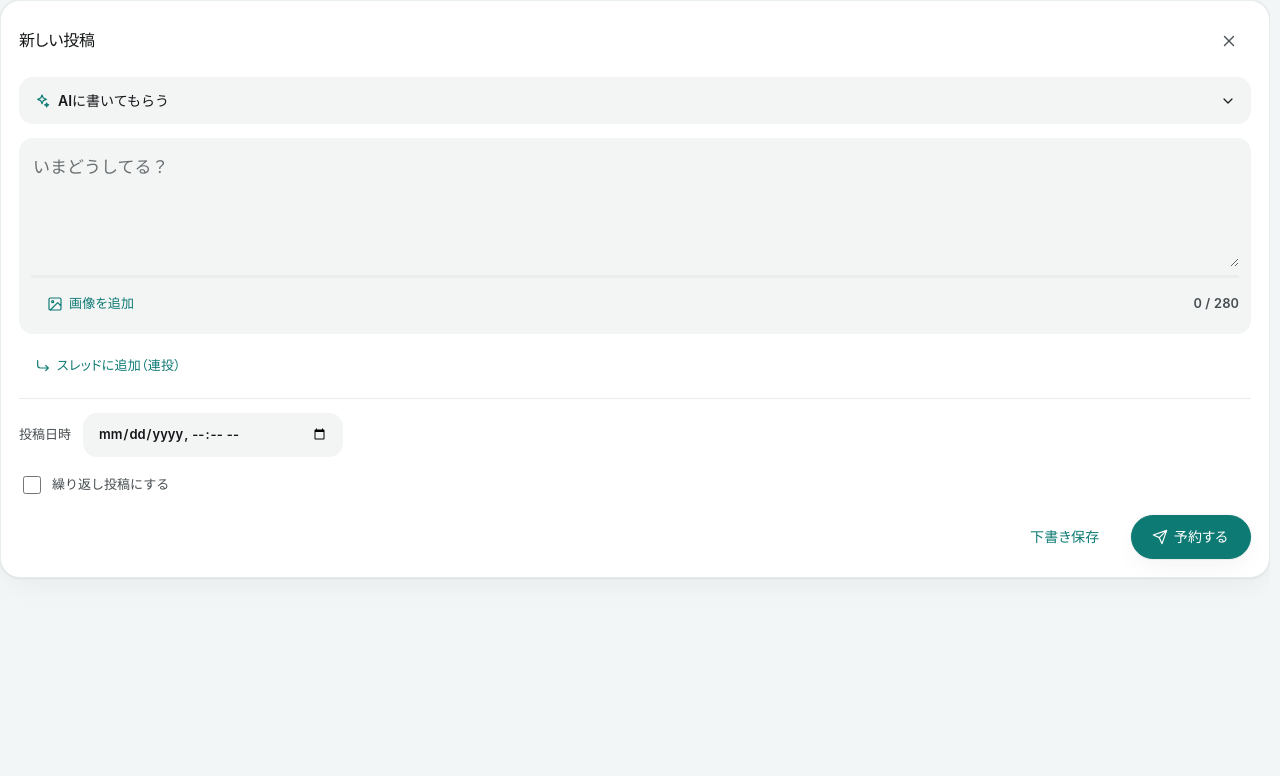
Test: PostComposer › 本文を書いてあるときは書き直しとして案内する
Type "書きかけの本文" into the text box with placeholder "いまどうしてる？" at (635, 208), box [31, 150, 1239, 267]
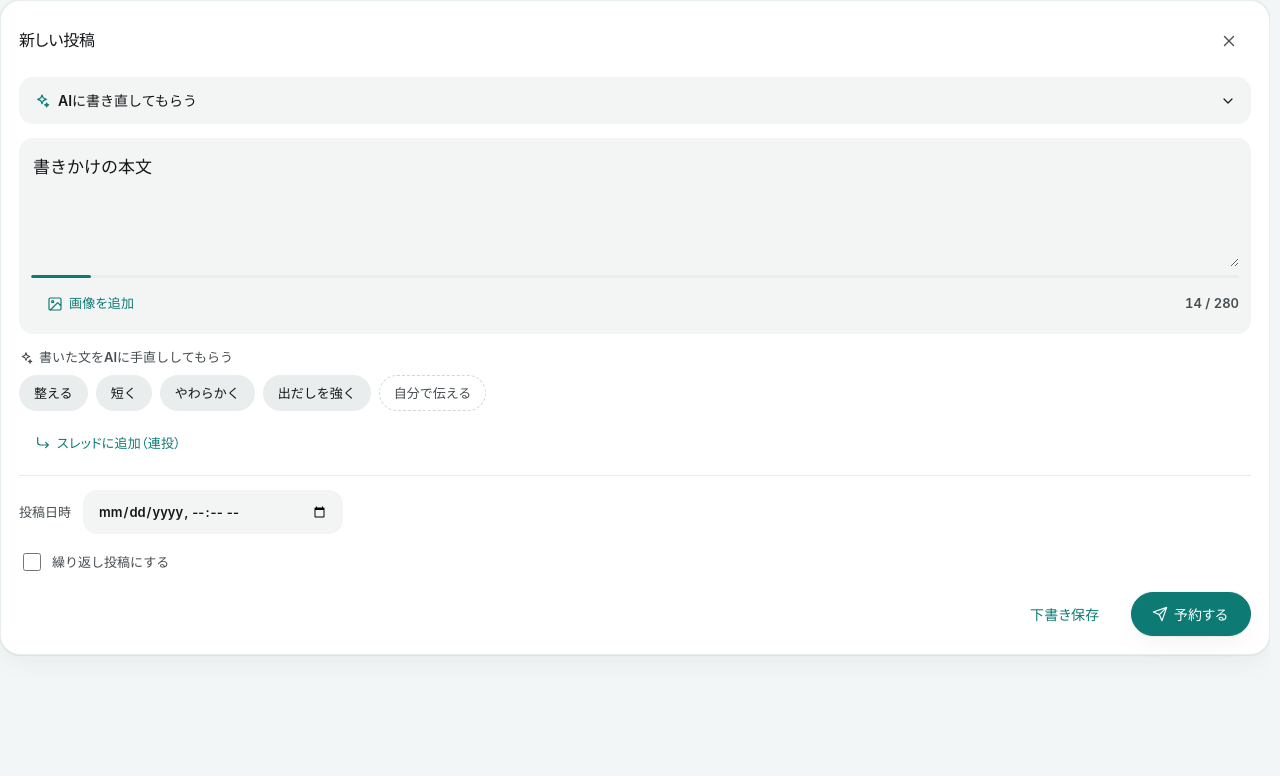
Click the button "AIに書き直してもらう" at (127, 100), box [20, 78, 1250, 123]
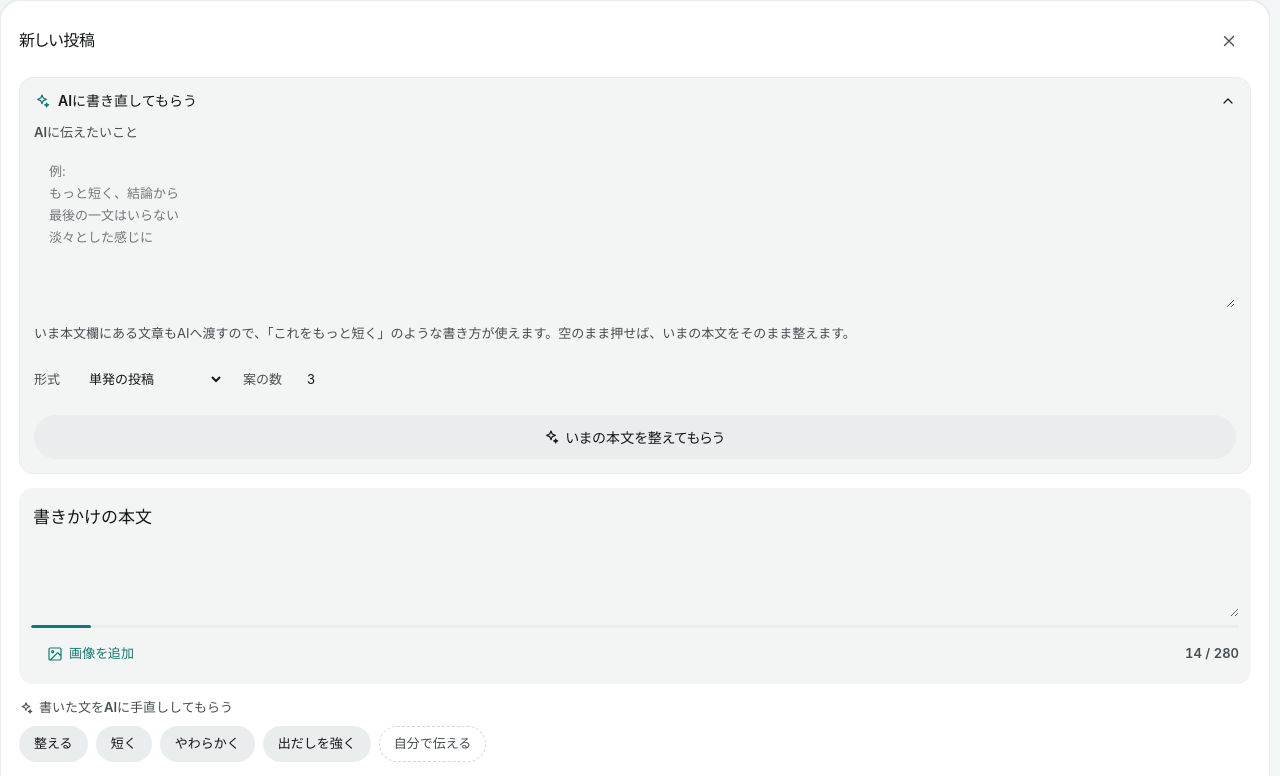
Result: the text "いま本文欄にある文章もAIへ渡すので" is shown at [34, 324, 856, 340]
